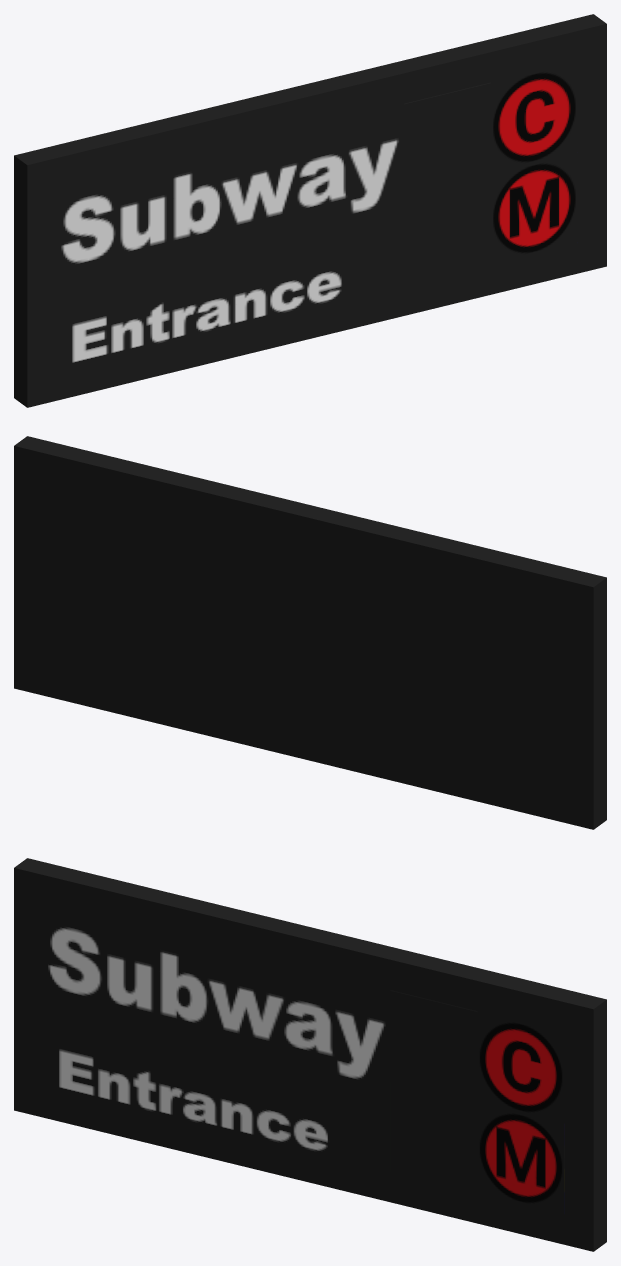
File: SW_PROP_Sign_Medium_01_CM.fbx
3 renders of one model, top to bottom at view 1: azimuth 30°, elevation 25°; view 2: azimuth 150°, elevation 25°; view 3: azimuth 330°, elevation 25°, orthographic.
Parts seen in each view (by area): view 1: SW_PROP_Sign_Medium_01_CM; view 2: SW_PROP_Sign_Medium_01_CM; view 3: SW_PROP_Sign_Medium_01_CM.
Part boxes in pixels (left/top/right/bottom): SW_PROP_Sign_Medium_01_CM: left=14, top=14, right=606, bottom=407; SW_PROP_Sign_Medium_01_CM: left=14, top=436, right=606, bottom=829; SW_PROP_Sign_Medium_01_CM: left=14, top=858, right=606, bottom=1251.
Bounding box in the file's own units: 1 × 0.4 × 0.04.
